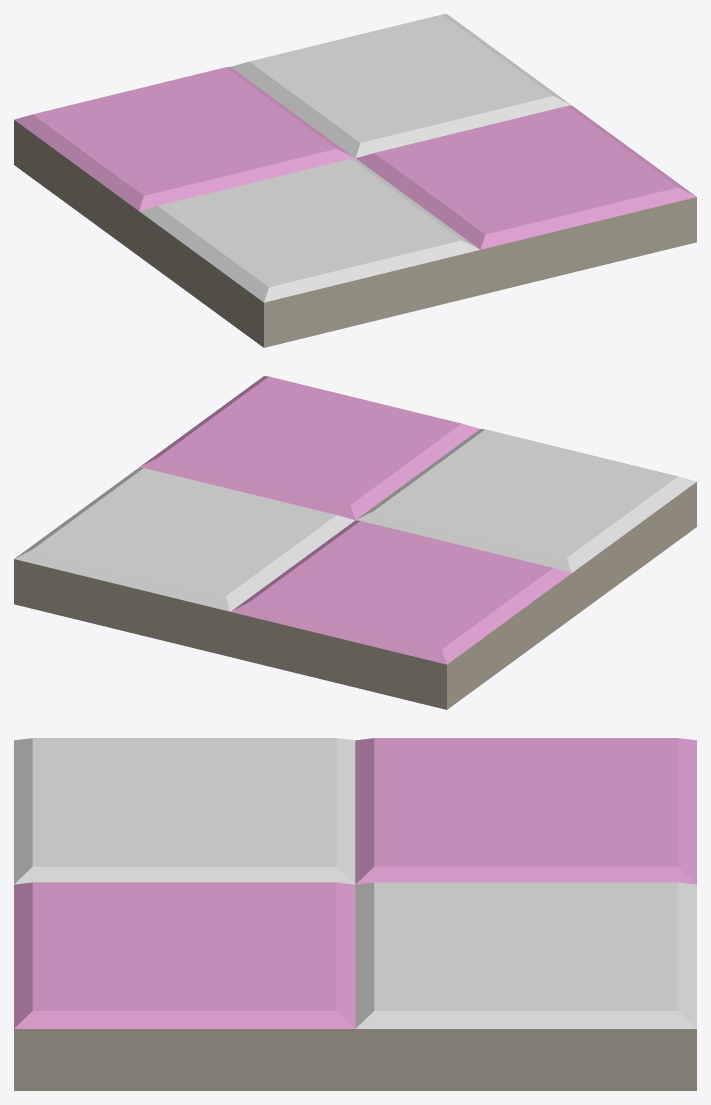
File: Mesh_GroundCeramic_O1.fbx
3 renders of one model, top to bottom at view 1: azimuth 30°, elevation 25°; view 2: azimuth 150°, elevation 25°; view 3: azimuth 270°, elevation 25°, orthographic. The views are drawn at different scales.
Visible parts, largest first — view 1: Mesh_GroundCeramic_O1; view 2: Mesh_GroundCeramic_O1; view 3: Mesh_GroundCeramic_O1.
Boxes of the visible parts, left/top/right/bottom form: Mesh_GroundCeramic_O1: left=14, top=14, right=696, bottom=347; Mesh_GroundCeramic_O1: left=14, top=376, right=696, bottom=709; Mesh_GroundCeramic_O1: left=14, top=738, right=696, bottom=1090.
Bounding box in the file's own units: 1 × 0.1164 × 1.
